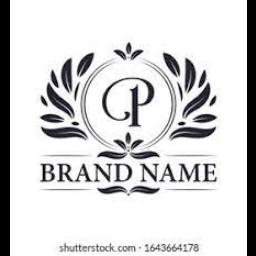p: (126, 76, 154, 128)
